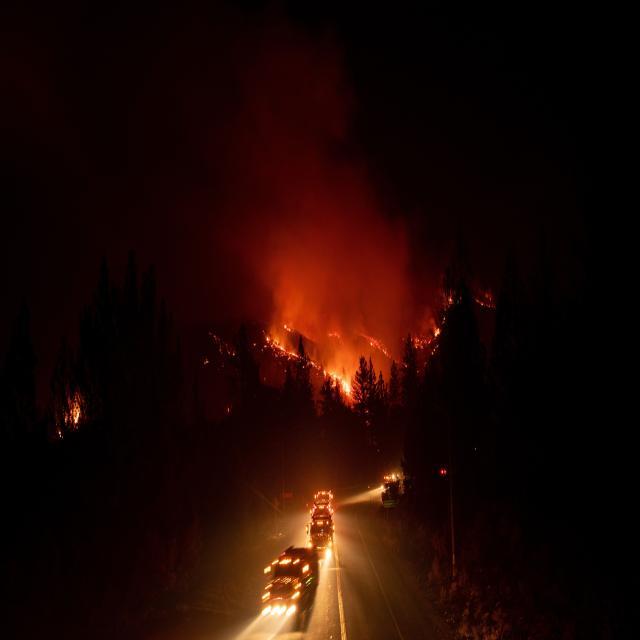Fire: (274, 329, 357, 399)
Smoke: (228, 140, 403, 322)
